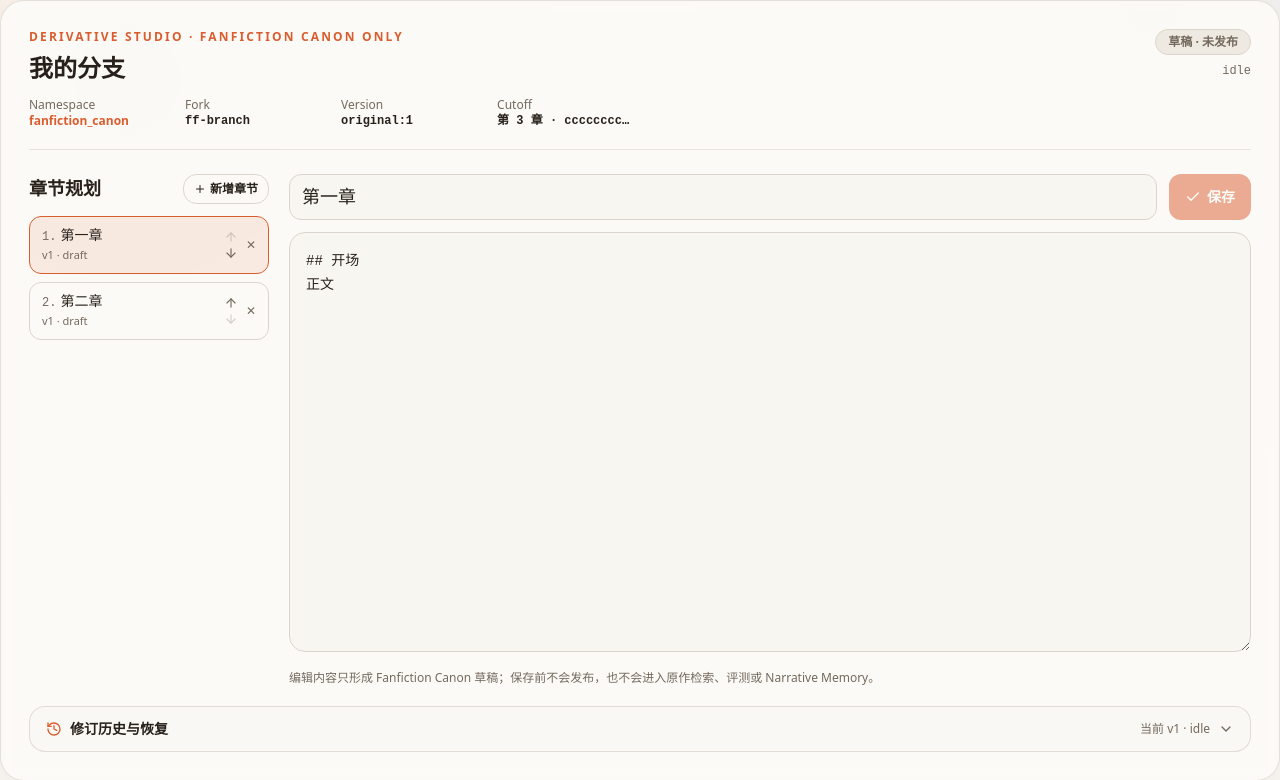
Test: MarkdownEditor › surfaces a stale-write conflict and can reload from the server
Replace the text in the text box named "章节 Markdown 内容" with "旧标签的覆盖" at (770, 442), box [289,232,1251,652]
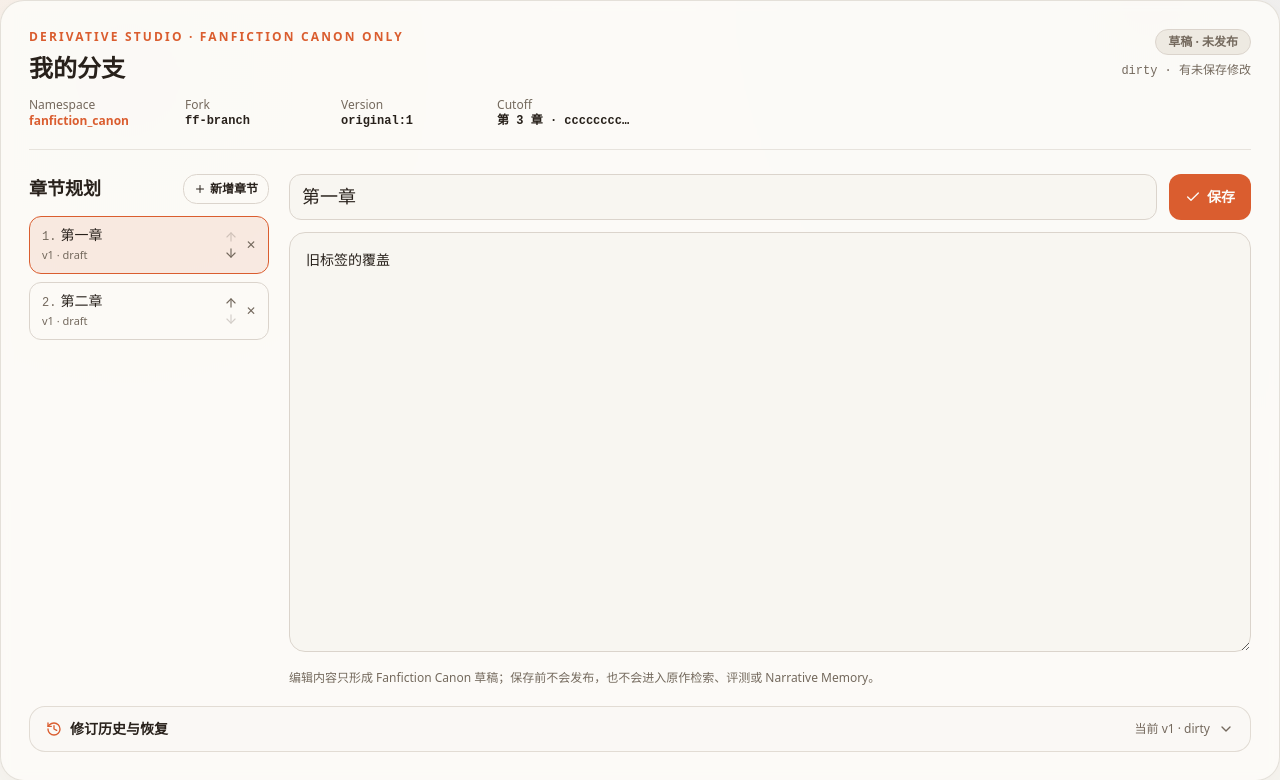
Click the button "保存" at (1210, 197), box [1169,174,1251,220]
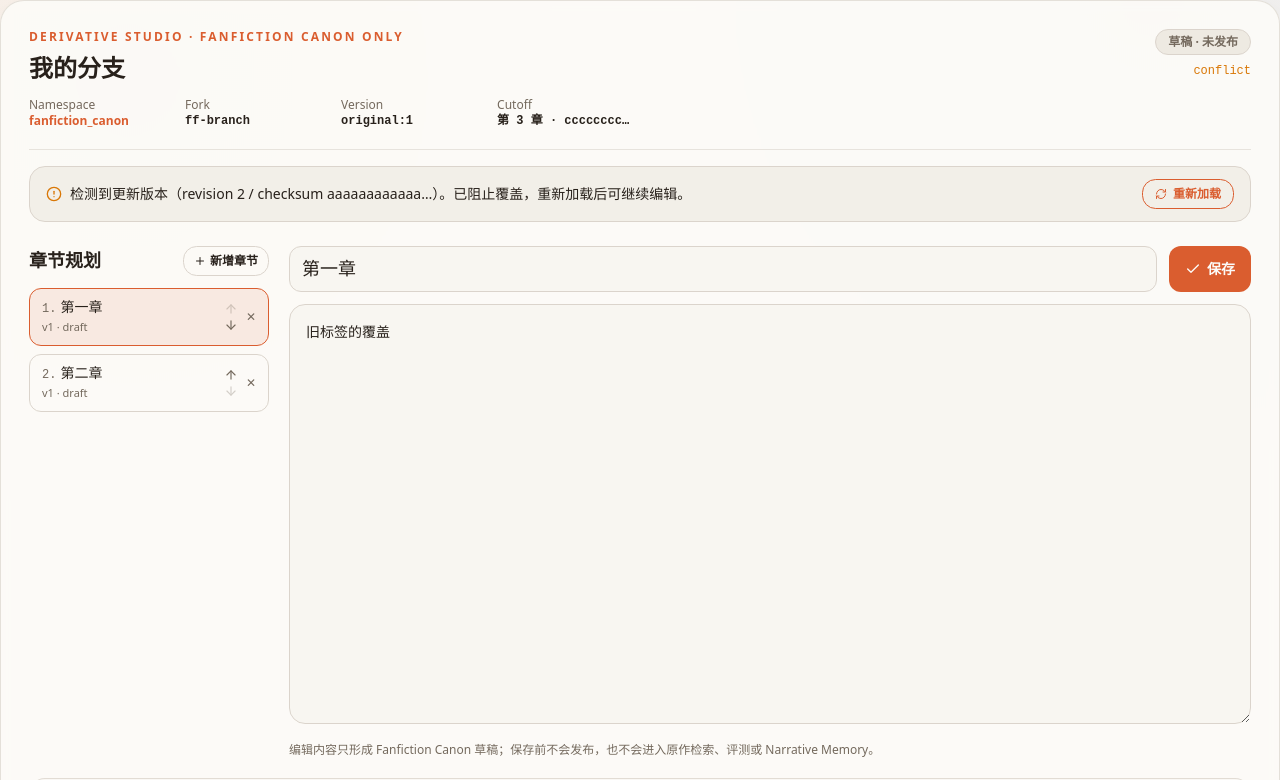
Check: the message shows "revision 2", box [70,184,691,203]
Check: the element with test id "editor-save-state" reads "conflict", box [1193,64,1251,78]
Click the button "重新加载" at (1188, 194), box [1142,179,1234,209]
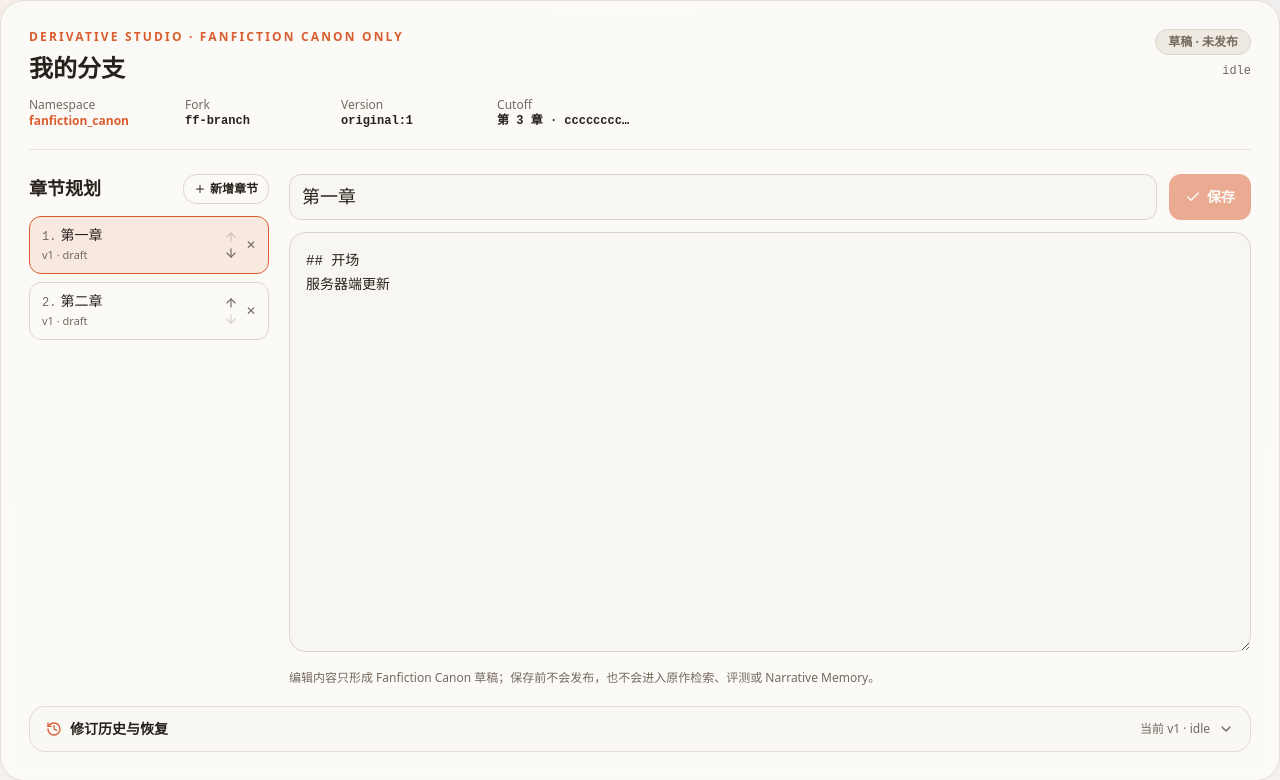
Check: the text with test id "editor-save-state" reads "idle", box [1222,64,1251,78]
